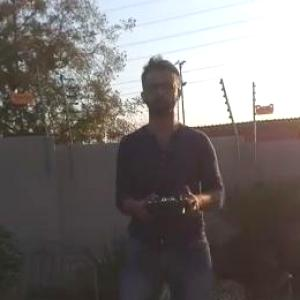follow: (109, 48, 233, 299)
